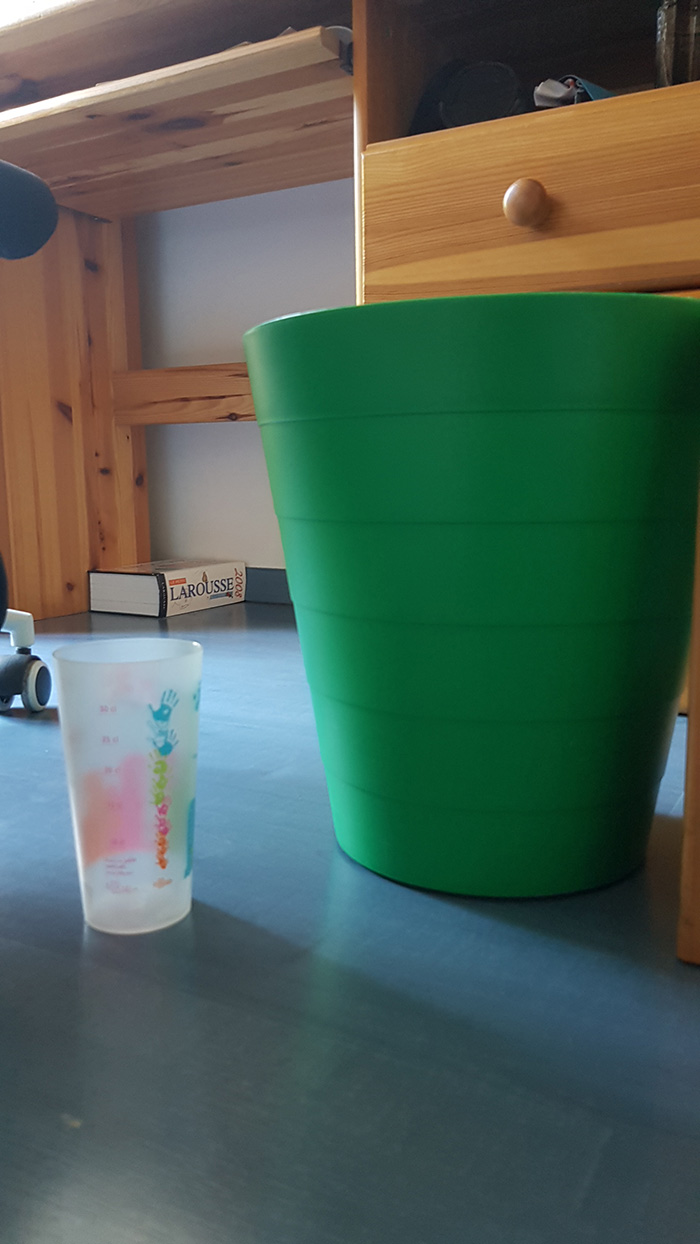ecocup: (50, 636, 203, 937)
